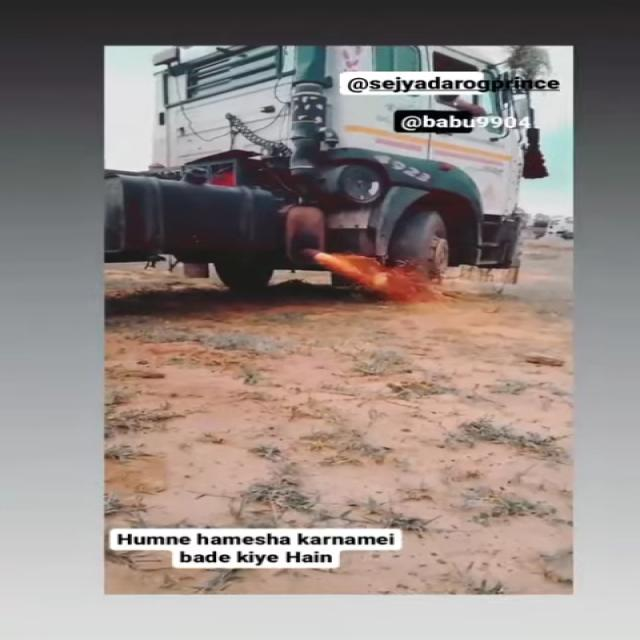fire: (316, 251, 389, 289)
